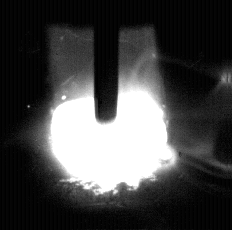arame: (95, 0, 119, 124)
poca: (51, 0, 169, 230)
